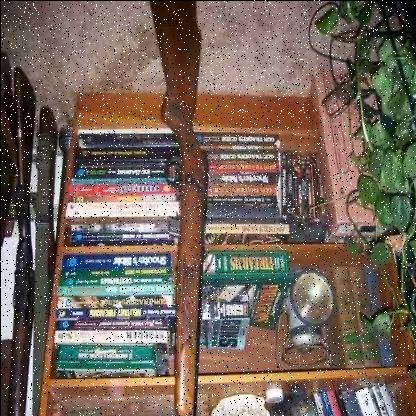rifle: (134, 1, 240, 416)
